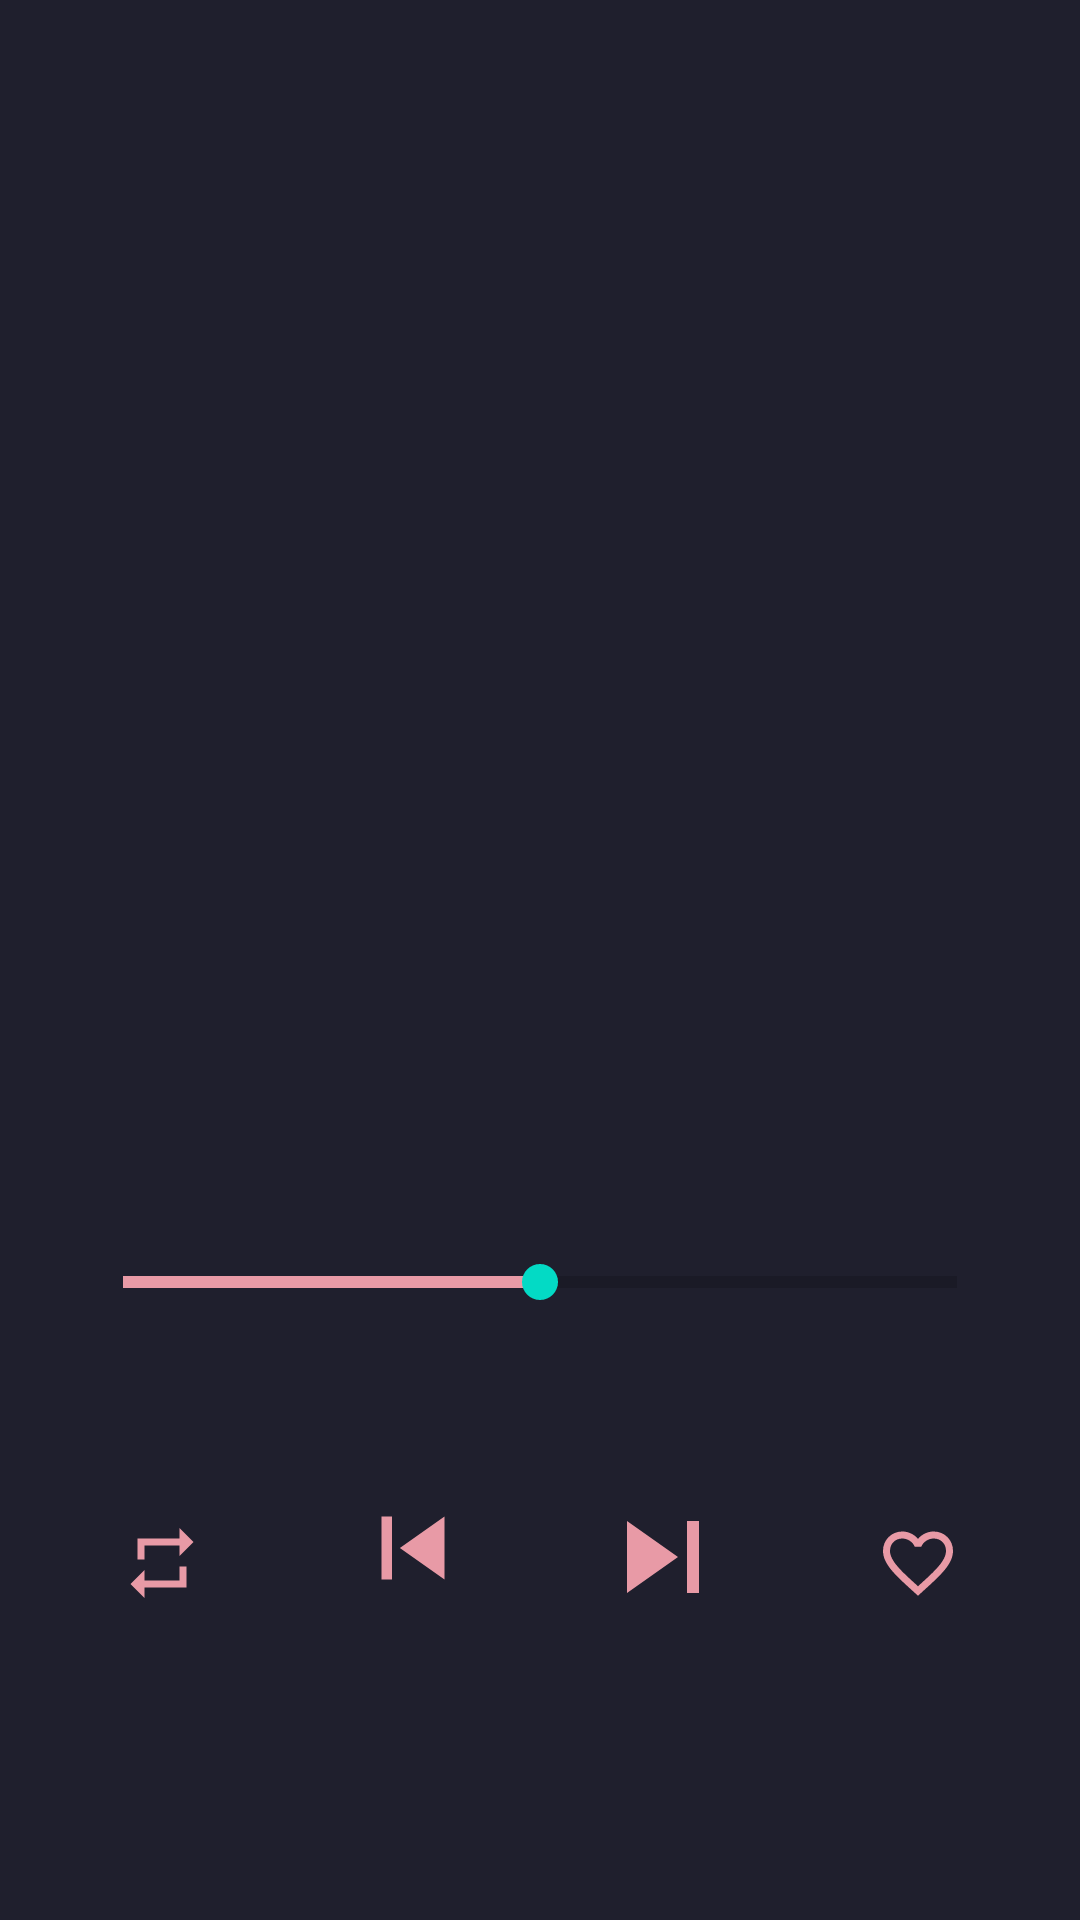

Locate icon controls on the screen. Image size 1080 × 1920, boxes as (x1, y1, x2, y2).
favorite border: (883, 1531, 953, 1596)
repeat: (130, 1528, 194, 1598)
skip next: (627, 1521, 699, 1593)
skip previous: (381, 1516, 445, 1580)
